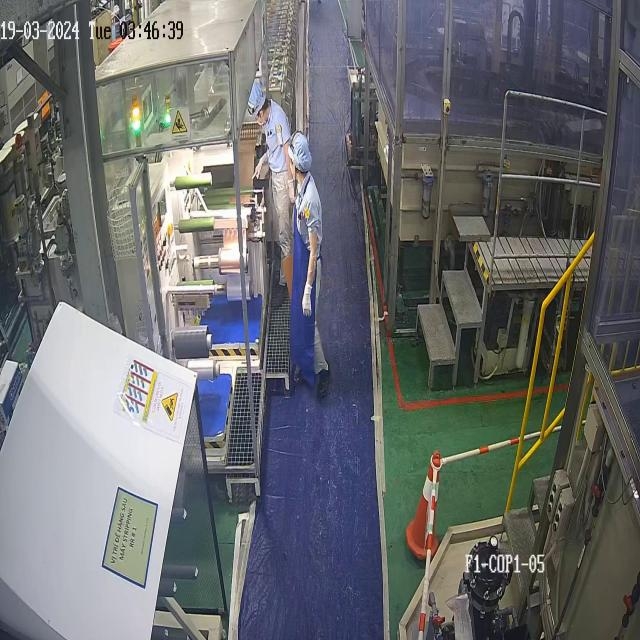Person: (286, 130, 330, 399), (247, 81, 296, 288)
